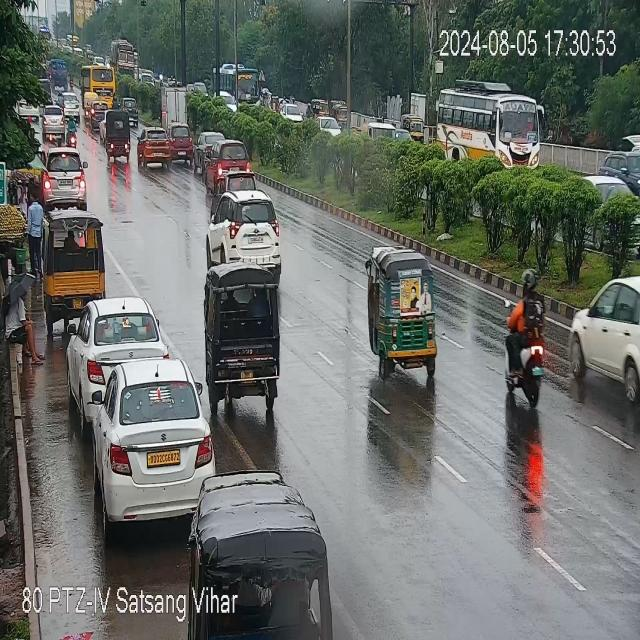2-wheelers: (503, 281, 551, 407)
auto: (197, 469, 335, 640), (201, 264, 284, 412), (368, 252, 440, 371), (42, 215, 108, 331), (80, 63, 118, 106), (102, 112, 133, 162), (169, 126, 194, 160)
bus: (430, 87, 543, 177), (210, 69, 262, 112)
car: (85, 361, 215, 534), (64, 298, 169, 421), (571, 273, 638, 401), (212, 190, 288, 269), (42, 151, 89, 207), (205, 138, 254, 186), (138, 132, 173, 167), (196, 131, 226, 163), (61, 92, 83, 117)
pedestrian: (7, 269, 40, 363), (24, 192, 44, 273)
truck: (160, 89, 188, 129), (112, 39, 136, 77)
